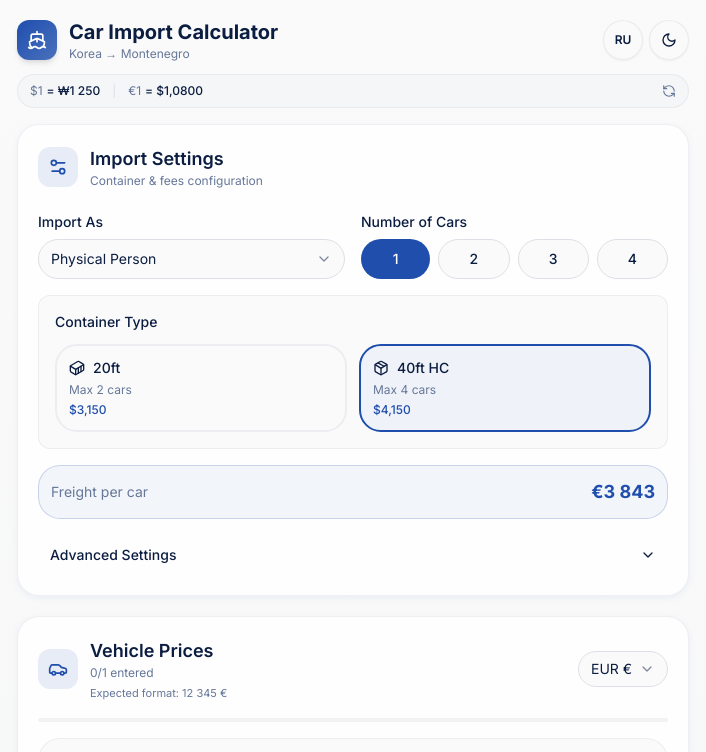
Scenario: Calculator form integration › toggles language and persists selection
Click the button with aria-label "toggle language".
click(623, 40)  # box [603,20,643,60]
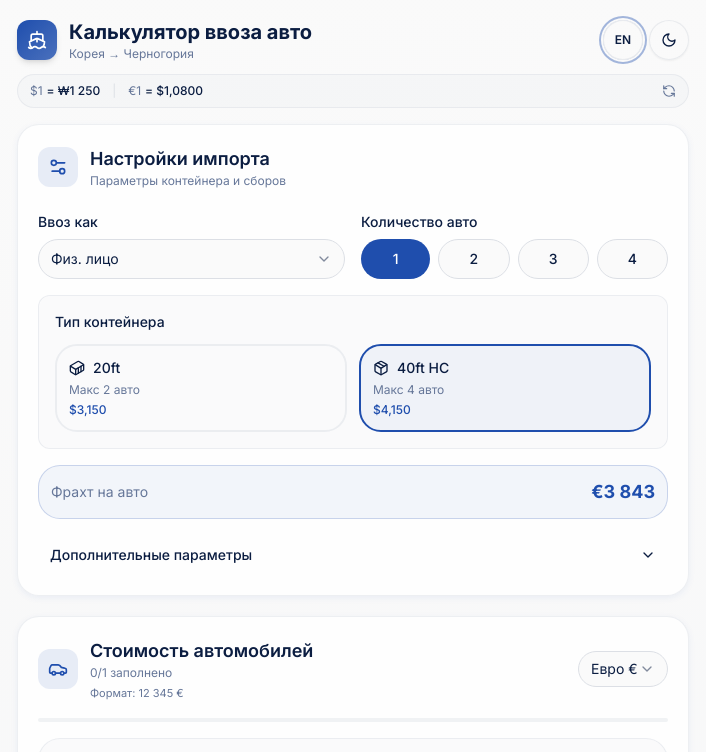
Now the heading "Калькулятор ввоза авто" is shown, box [69,20,312,44]
